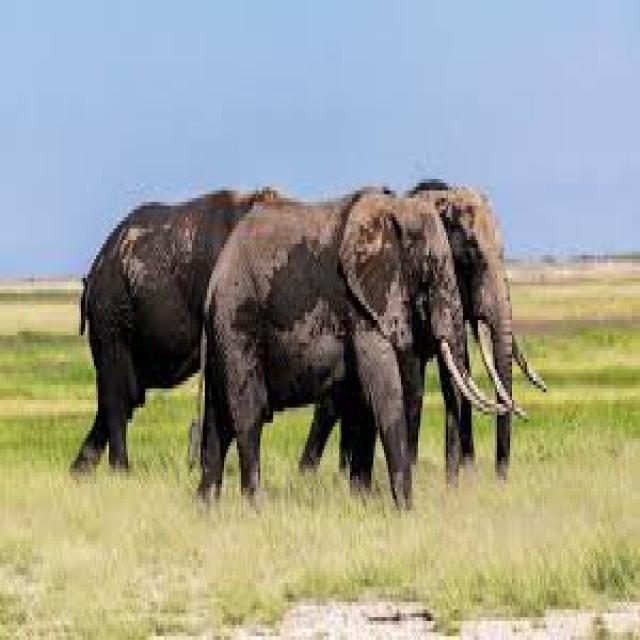Elephant: (192, 183, 514, 510), (68, 183, 286, 480)
